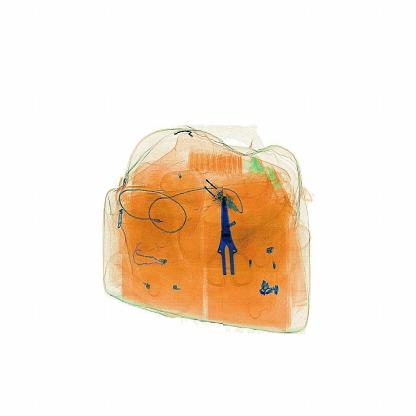gun: (203, 183, 267, 299)
